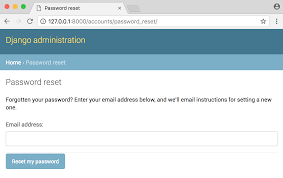button: (4, 152, 66, 171)
textbox: (3, 129, 281, 149)
